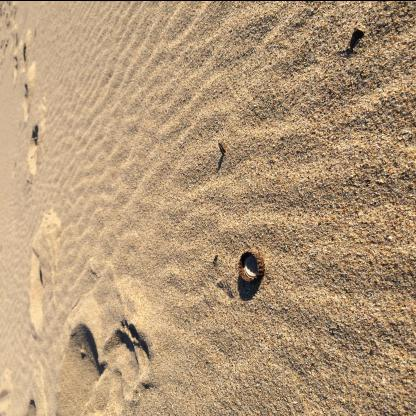metal: (238, 250, 264, 281)
